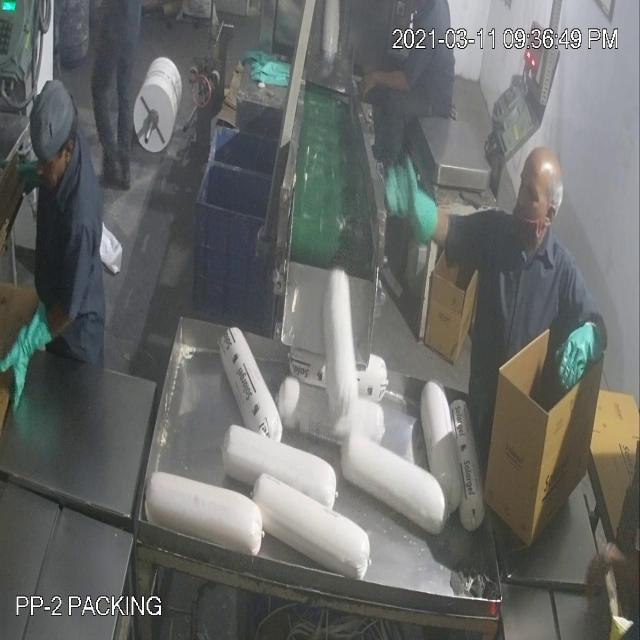gloves: (552, 306, 620, 402), (387, 158, 438, 262)
no-gloves: (351, 50, 417, 98)
